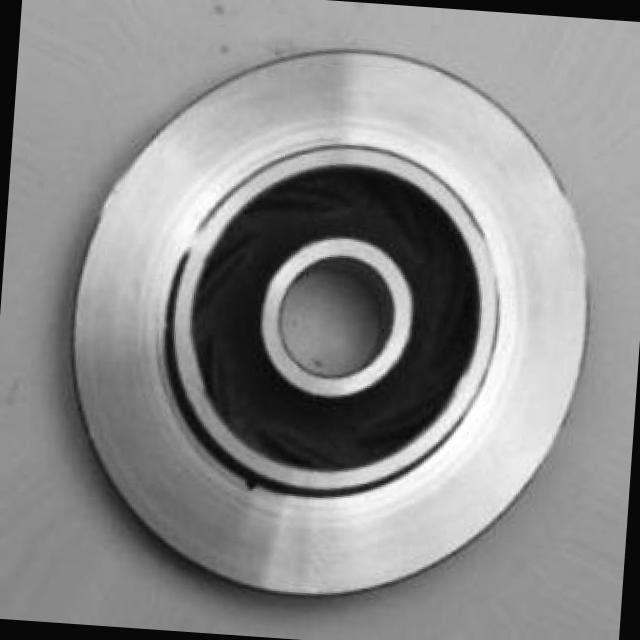Defect: (236, 462, 272, 503)
